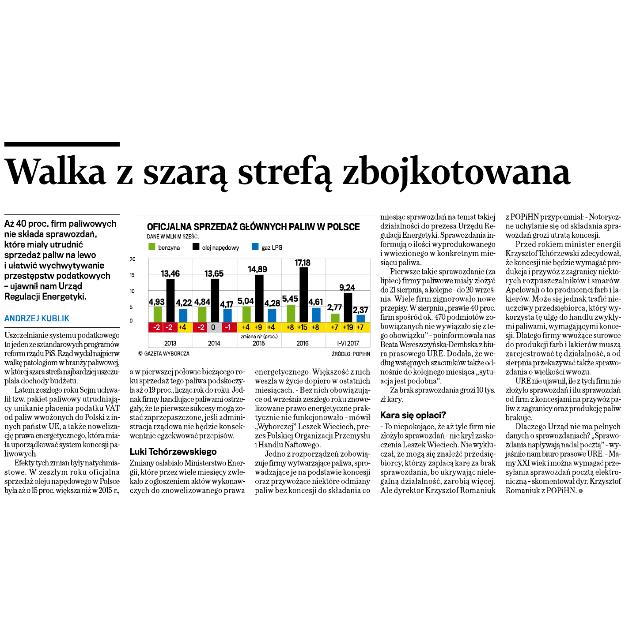author: (2, 310, 74, 324)
body: (502, 210, 624, 498), (379, 212, 498, 496), (2, 329, 122, 496), (127, 366, 247, 496), (252, 365, 372, 495)
image: (142, 232, 372, 350)
lead: (2, 215, 120, 302), (142, 218, 364, 232)
title: (4, 150, 578, 192)
